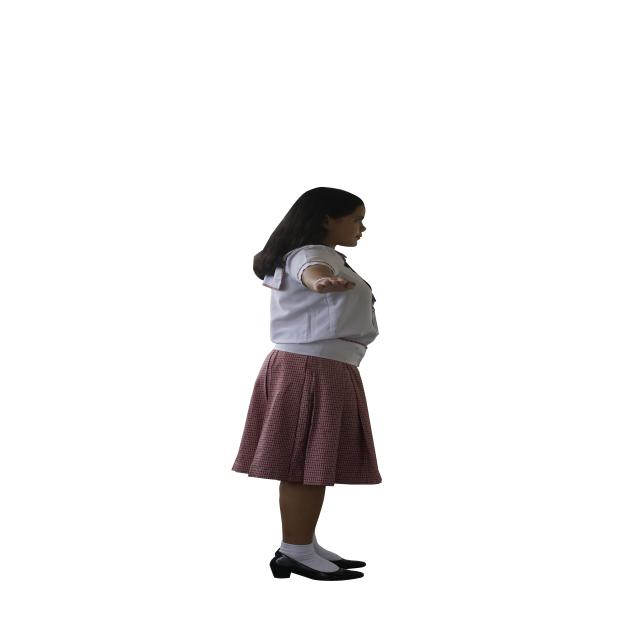shoes: (270, 551, 365, 581)
skirt: (232, 349, 381, 486)
